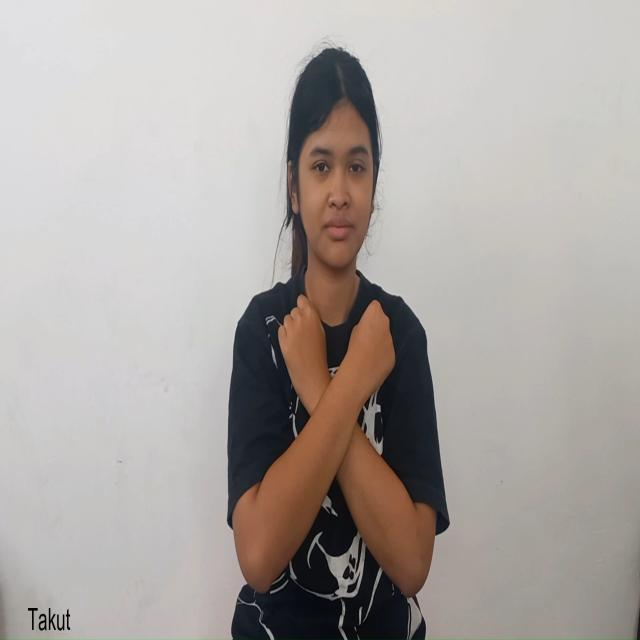Takut -BISINDO-: (272, 291, 392, 537)
